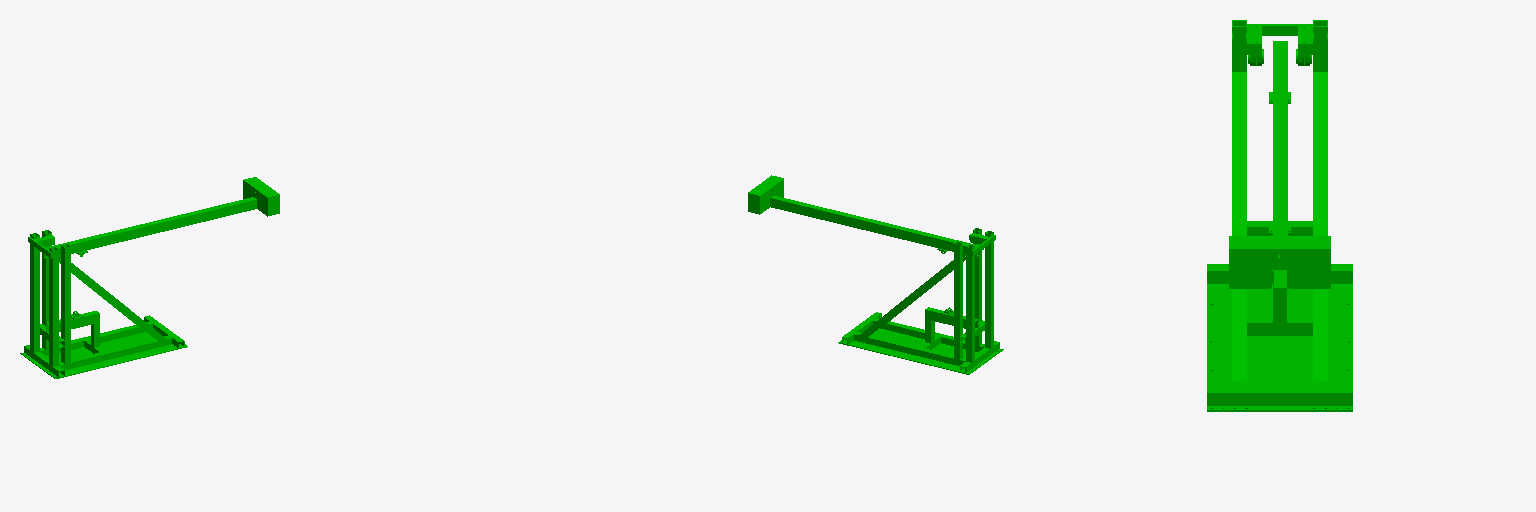
URDF robot description (green_crane):
<?xml version="1.0"?>
<robot name="green_crane">




  <material name="green">
    <color rgba="0 0.8 0 1"/>
  </material>





   
<link name="world_link"></link>


  <link name="base_link">
    <visual>
      <origin rpy="0 0 0" xyz="0 0 0.57207"/>
      <geometry>
         <mesh filename="package://crane_visualization/meshes/frame_URDF.STL"/> 
      </geometry>
      <material name="green"/>
    </visual>
  </link>


 <link name="crane_boom">
    <visual> 
      <origin rpy="0 0 0" xyz="3.10836 0 0.06343"/>
      <geometry>
        <mesh filename="package://crane_visualization/meshes/boom_URDF.STL"/>
      </geometry>
      <material name="green"/>
    </visual>
  </link>
  
    <link name="tooltip">
    <visual>
      <origin rpy="0 0 0" xyz="3.68 0.1 0.15"/>
      <geometry>
        <box size="0 0 0"/>
      </geometry>
      <material name="green"/>
    </visual>
  </link>






  <joint name="world_joint" type="fixed">
    <parent link="world_link"/>
    <child link="base_link"/>
    <origin xyz="0 0 0.956"/>
   </joint>
   
 
 <joint name="base_to_crane_boom" type="revolute">
    <axis xyz="0 1 0"/>
    <limit effort="1000.0" lower="0.3267" upper="-0.6948" velocity="0.5"/>
    <origin rpy="0 0 0"  xyz="-0.56876 0 1.752"/>
    <parent link="base_link"/>
    <child link="crane_boom"/>
  </joint>
  
  
  
  <joint name="craneboom_to_tooltip" type="fixed">
    <parent link="crane_boom"/>
    <child link="tooltip"/>
    <origin xyz="3.68 0 0"/>
   </joint>
  
 

</robot>

--- Render facts (derived) ---
Views: 3 orthographic renders of the robot side by side, from view 1: azimuth 30°, elevation 25°; view 2: azimuth 150°, elevation 25°; view 3: azimuth 270°, elevation 25°.
Robot: green_crane — 4 links, 3 joints (1 revolute, 2 fixed); root link world_link; default pose: every joint at zero.
Links seen in each view (by area): view 1: base_link, crane_boom; view 2: base_link, crane_boom; view 3: base_link, crane_boom.
Boxes of the visible links, x1,y1,x2,y2 form: base_link: (20, 230, 187, 378); crane_boom: (44, 177, 279, 259); base_link: (838, 228, 1003, 374); crane_boom: (748, 175, 979, 257); base_link: (1207, 20, 1352, 411); crane_boom: (1229, 41, 1330, 288).
Size in the robot's own frame: 7.57 by 1 by 1.98 metres.
2 mesh visuals loaded from 2 distinct referenced files (2 binary STL).